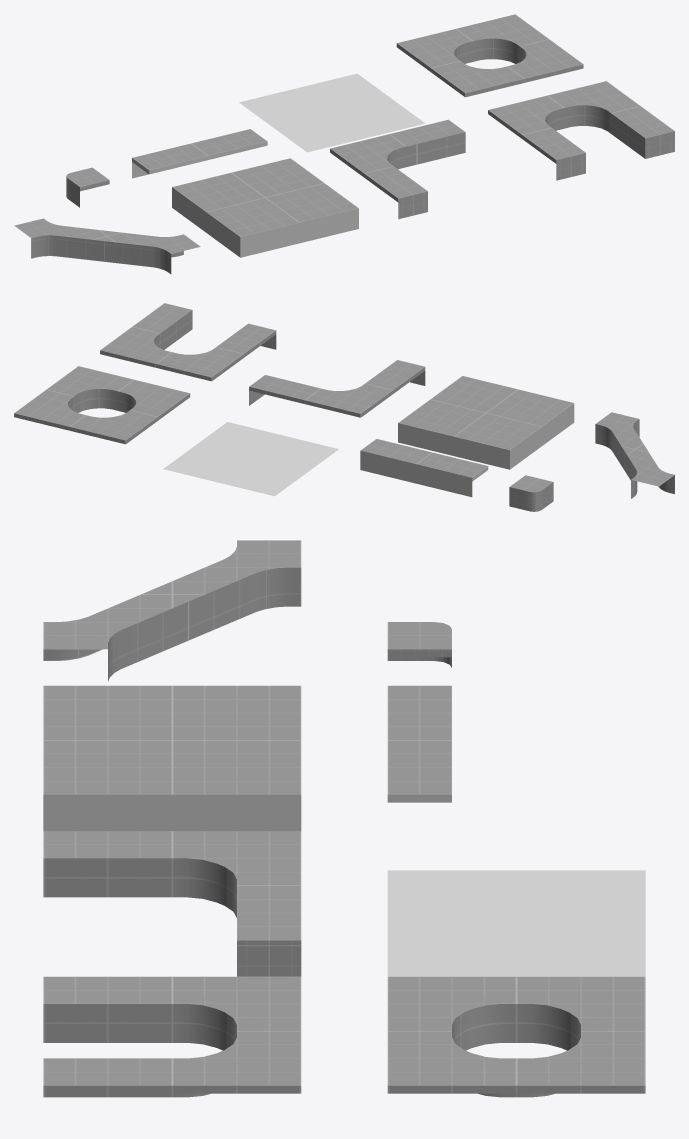
Rendered from proto_exterior_tiles_01.fbx.
3 views of the same model, one above another, from view 1: azimuth 30°, elevation 25°; view 2: azimuth 150°, elevation 25°; view 3: azimuth 270°, elevation 25° (orthographic). The views are drawn at different scales.
Parts seen in each view (by area): view 1: Ground_Base_A, Empty_Base_U, Empty_Base_O, Empty_Base_Layer_A, Empty_Base_L_A, Ground_Base_Connection_A, Ground_Base_Border_A, Ground_Base_Corner_A; view 2: Ground_Base_A, Empty_Base_O, Empty_Base_Layer_A, Empty_Base_U, Empty_Base_L_A, Ground_Base_Border_A, Ground_Base_Connection_A, Ground_Base_Corner_A; view 3: Ground_Base_A, Empty_Base_O, Empty_Base_U, Empty_Base_Layer_A, Empty_Base_L_A, Ground_Base_Connection_A, Ground_Base_Border_A, Ground_Base_Corner_A.
Boxes of the visible parts, left/top/right/bottom form: Ground_Base_A: left=172, top=158, right=358, bottom=257; Empty_Base_U: left=488, top=81, right=674, bottom=180; Empty_Base_O: left=396, top=14, right=583, bottom=97; Empty_Base_Layer_A: left=239, top=73, right=425, bottom=152; Empty_Base_L_A: left=330, top=119, right=465, bottom=219; Ground_Base_Connection_A: left=14, top=218, right=200, bottom=274; Ground_Base_Border_A: left=132, top=129, right=267, bottom=178; Ground_Base_Corner_A: left=66, top=167, right=109, bottom=207; Ground_Base_A: left=398, top=376, right=574, bottom=469; Empty_Base_O: left=14, top=366, right=190, bottom=444; Empty_Base_Layer_A: left=163, top=422, right=338, bottom=496; Empty_Base_U: left=100, top=303, right=276, bottom=381; Empty_Base_L_A: left=249, top=360, right=425, bottom=417; Ground_Base_Border_A: left=360, top=439, right=488, bottom=497; Ground_Base_Connection_A: left=595, top=412, right=674, bottom=498; Ground_Base_Corner_A: left=509, top=475, right=553, bottom=511; Ground_Base_A: left=43, top=685, right=301, bottom=831; Empty_Base_O: left=387, top=976, right=645, bottom=1097; Empty_Base_U: left=43, top=976, right=301, bottom=1097; Empty_Base_Layer_A: left=387, top=870, right=645, bottom=976; Empty_Base_L_A: left=43, top=831, right=301, bottom=976; Ground_Base_Connection_A: left=43, top=540, right=301, bottom=681; Ground_Base_Border_A: left=387, top=685, right=451, bottom=802; Ground_Base_Corner_A: left=387, top=622, right=451, bottom=667.
Size of the model in its own units: 1500 by 50 by 700.
